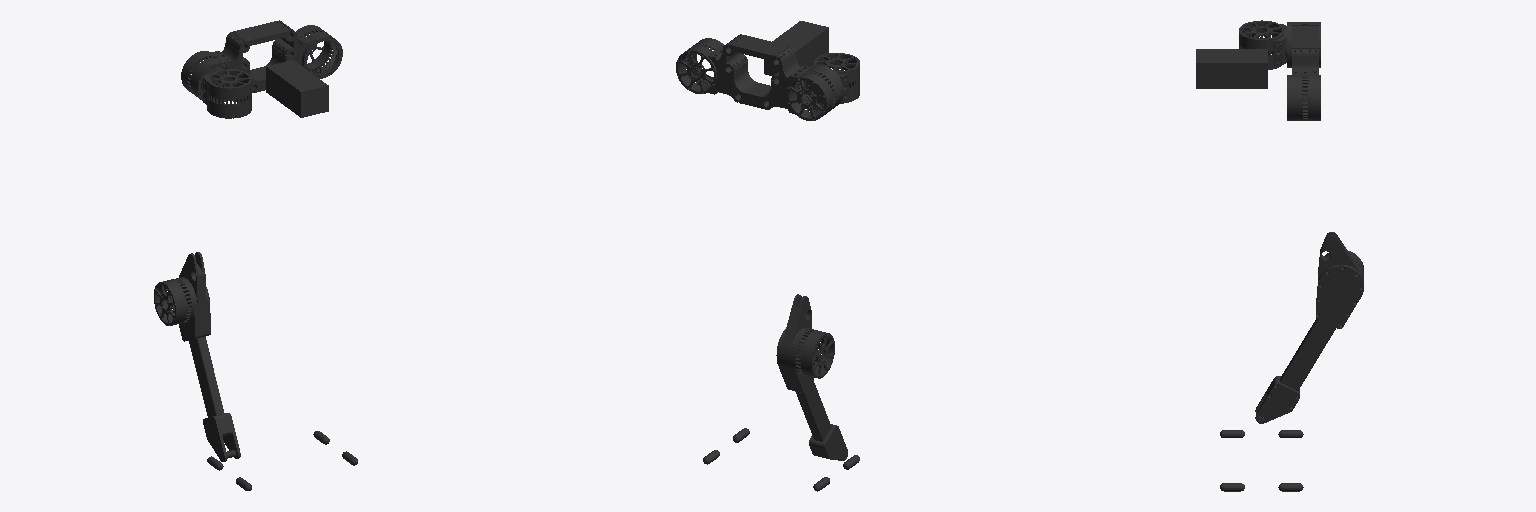
The robot description file, URDF, robot "biped":
<?xml version="1.0"?>
<!-- created with Phobos 0.7 -->
  <robot name="biped">

    <link name="l_ab_ad">
      <inertial>
        <origin xyz="8e-05 0.02446 -0.00146" rpy="0 0 0"/>
        <mass value="1.2"/>
        <inertia ixx="0.00196" ixy="0" ixz="0" iyy="0.00133" iyz="-2e-05" izz="0.0023"/>
      </inertial>
      <visual name="mesh.002">
        <origin xyz="8e-05 0.02446 -0.00146" rpy="0 0 0"/>
        <geometry>
          <mesh filename="../meshes/stl/Assembly Mockup v27.003.stl" scale="1.0 1.0 1.0"/>
        </geometry>
        <material name="Material"/>
      </visual>
      <collision name="mesh.002">
        <origin xyz="0 0.00015 -0.00044" rpy="0 0 0"/>
        <geometry>
          <cylinder radius="0.055" length="0.0759"/>
        </geometry>
      </collision>
    </link>

    <link name="l_foot">
      <inertial>
        <origin xyz="0 0.00325 -0.02828" rpy="0 0 0"/>
        <mass value="0.5"/>
        <inertia ixx="0.00163" ixy="0" ixz="0" iyy="0.001" iyz="-5e-05" izz="0.00151"/>
      </inertial>
      <visual name="Cylinder">
        <origin xyz="0 -0.07 -0.05247" rpy="1.5708 0 0"/>
        <geometry>
          <cylinder radius="0.01" length="0.04"/>
        </geometry>
        <material name="Material"/>
      </visual>
      <visual name="Cylinder.001">
        <origin xyz="0 0.07 -0.05247" rpy="1.5708 0 0"/>
        <geometry>
          <cylinder radius="0.01" length="0.04"/>
        </geometry>
        <material name="Material"/>
      </visual>
      <visual name="Sphere">
        <origin xyz="0 -0.09 -0.05247" rpy="1.5708 0 0"/>
        <geometry>
          <sphere radius="0.01"/>
        </geometry>
        <material name="Material"/>
      </visual>
      <visual name="Sphere.001">
        <origin xyz="0 -0.05 -0.05247" rpy="1.5708 0 0"/>
        <geometry>
          <sphere radius="0.01"/>
        </geometry>
        <material name="Material"/>
      </visual>
      <visual name="Sphere.002">
        <origin xyz="0 0.09 -0.05247" rpy="1.5708 0 0"/>
        <geometry>
          <sphere radius="0.01"/>
        </geometry>
        <material name="Material"/>
      </visual>
      <visual name="Sphere.003">
        <origin xyz="0 0.05 -0.05247" rpy="1.5708 0 0"/>
        <geometry>
          <sphere radius="0.01"/>
        </geometry>
        <material name="Material"/>
      </visual>
      <visual name="mesh.009">
        <origin xyz="0 0.00325 -0.02828" rpy="0 0 0"/>
        <geometry>
          <mesh filename="../meshes/stl/Assembly Mockup v27.012.stl" scale="1.0 1.0 1.0"/>
        </geometry>
        <material name="Material"/>
      </visual>
      <collision name="Sphere">
        <origin xyz="0 -0.09 -0.04" rpy="1.5708 0 0"/>
        <geometry>
          <sphere radius="0.025"/>
        </geometry>
      </collision>
      <collision name="Sphere.002">
        <origin xyz="0 0.09 -0.04" rpy="1.5708 0 0"/>
        <geometry>
          <sphere radius="0.025"/>
        </geometry>
      </collision>
    </link>

    <link name="l_lower">
      <inertial>
        <origin xyz="-0.0001 0.00125 -0.14482" rpy="0 0 0"/>
        <mass value="2.0"/>
        <inertia ixx="0.04215" ixy="-0.0001" ixz="-5e-05" iyy="0.03449" iyz="-0.01473" izz="0.00811"/>
      </inertial>
      <visual name="mesh.008">
        <origin xyz="-0.0001 0.00125 -0.14482" rpy="0 0 0"/>
        <geometry>
          <mesh filename="../meshes/stl/Assembly Mockup v27.011.stl" scale="1.0 1.0 1.0"/>
        </geometry>
        <material name="Material"/>
      </visual>
      <visual name="mesh.011">
        <origin xyz="0.05162 0.03693 -0.07685" rpy="0 0 0"/>
        <geometry>
          <mesh filename="../meshes/stl/Assembly Mockup v27.014.stl" scale="1.0 1.0 1.0"/>
        </geometry>
        <material name="Material"/>
      </visual>
      <collision name="mesh.011">
        <origin xyz="0.028 0.03693 -0.07688" rpy="1.5708 0 1.5708"/>
        <geometry>
          <cylinder radius="0.055" length="0.088"/>
        </geometry>
      </collision>
    </link>

    <link name="l_upper">
      <inertial>
        <origin xyz="0.00043 0.04822 -0.10773" rpy="0 0 0"/>
        <mass value="1.0"/>
        <inertia ixx="0.04548" ixy="-0.00012" ixz="5e-05" iyy="0.0388" iyz="0.01517" izz="0.00738"/>
      </inertial>
      <visual name="mesh.010">
        <origin xyz="0.00043 0.04822 -0.10773" rpy="0 0 0"/>
        <geometry>
          <mesh filename="../meshes/stl/Assembly Mockup v27.013.stl" scale="1.0 1.0 1.0"/>
        </geometry>
        <material name="Material"/>
      </visual>
    </link>

    <link name="l_yaw">
      <inertial>
        <origin xyz="0 0 0.03518" rpy="0 0 0"/>
        <mass value="2.4"/>
        <inertia ixx="0.00566" ixy="0" ixz="4e-05" iyy="0.01138" iyz="0" izz="0.00912"/>
      </inertial>
      <visual name="mesh.004">
        <origin xyz="0 0 0.03518" rpy="0 0 0"/>
        <geometry>
          <mesh filename="../meshes/stl/Assembly Mockup v27.005.stl" scale="1.0 1.0 1.0"/>
        </geometry>
        <material name="Material"/>
      </visual>
      <collision name="mesh.004">
        <origin xyz="0 0 0.00075" rpy="1.5708 0 1.5708"/>
        <geometry>
          <cylinder radius="0.0525" length="0.209"/>
        </geometry>
      </collision>
    </link>

    <link name="r_ab_ad">
      <inertial>
        <origin xyz="-8e-05 0.02445 -0.00143" rpy="0 0 0"/>
        <mass value="1.2"/>
        <inertia ixx="0.00196" ixy="0" ixz="0" iyy="0.00133" iyz="-2e-05" izz="0.00229"/>
      </inertial>
      <visual name="mesh.003">
        <origin xyz="-8e-05 0.02445 -0.00143" rpy="0 0 0"/>
        <geometry>
          <mesh filename="../meshes/stl/Assembly Mockup v27.004.stl" scale="1.0 1.0 1.0"/>
        </geometry>
        <material name="Material"/>
      </visual>
      <collision name="mesh.003">
        <origin xyz="0 0.00015 -0.00044" rpy="0 0 0"/>
        <geometry>
          <cylinder radius="0.055" length="0.0759"/>
        </geometry>
      </collision>
    </link>

    <link name="r_foot">
      <inertial>
        <origin xyz="0 0.00325 -0.02828" rpy="0 0 0"/>
        <mass value="0.5"/>
        <inertia ixx="0.00163" ixy="0" ixz="0" iyy="0.001" iyz="-5e-05" izz="0.00151"/>
      </inertial>
      <visual name="Cylinder.002">
        <origin xyz="0 0.07 -0.05247" rpy="1.5708 0 0"/>
        <geometry>
          <cylinder radius="0.01" length="0.04"/>
        </geometry>
        <material name="Material"/>
      </visual>
      <visual name="Cylinder.003">
        <origin xyz="0 -0.07 -0.05247" rpy="1.5708 0 0"/>
        <geometry>
          <cylinder radius="0.01" length="0.04"/>
        </geometry>
        <material name="Material"/>
      </visual>
      <visual name="Sphere.004">
        <origin xyz="0 0.05 -0.05247" rpy="1.5708 0 0"/>
        <geometry>
          <sphere radius="0.01"/>
        </geometry>
        <material name="Material"/>
      </visual>
      <visual name="Sphere.005">
        <origin xyz="0 0.09 -0.05247" rpy="1.5708 0 0"/>
        <geometry>
          <sphere radius="0.01"/>
        </geometry>
        <material name="Material"/>
      </visual>
      <visual name="Sphere.006">
        <origin xyz="0 -0.05 -0.05247" rpy="1.5708 0 0"/>
        <geometry>
          <sphere radius="0.01"/>
        </geometry>
        <material name="Material"/>
      </visual>
      <visual name="Sphere.007">
        <origin xyz="0 -0.09 -0.05247" rpy="1.5708 0 0"/>
        <geometry>
          <sphere radius="0.01"/>
        </geometry>
        <material name="Material"/>
      </visual>
      <visual name="mesh">
        <origin xyz="0 0.00325 -0.02828" rpy="0 0 0"/>
        <geometry>
          <mesh filename="../meshes/stl/Assembly Mockup v27.stl" scale="1.0 1.0 1.0"/>
        </geometry>
        <material name="Material"/>
      </visual>
      <collision name="Sphere.005">
        <origin xyz="0 0.09 -0.04" rpy="1.5708 0 0"/>
        <geometry>
          <sphere radius="0.025"/>
        </geometry>
      </collision>
      <collision name="Sphere.007">
        <origin xyz="0 -0.09 -0.04" rpy="1.5708 0 0"/>
        <geometry>
          <sphere radius="0.025"/>
        </geometry>
      </collision>
    </link>

    <link name="r_lower">
      <inertial>
        <origin xyz="-0.00018 0.00049 -0.14674" rpy="0 0 0"/>
        <mass value="2.0"/>
        <inertia ixx="0.04173" ixy="0.00012" ixz="6e-05" iyy="0.03413" iyz="-0.01457" izz="0.00804"/>
      </inertial>
      <visual name="mesh.007">
        <origin xyz="-0.00018 0.00049 -0.14674" rpy="0 0 0"/>
        <geometry>
          <mesh filename="../meshes/stl/Assembly Mockup v27.010.stl" scale="1.0 1.0 1.0"/>
        </geometry>
        <material name="Material"/>
      </visual>
      <visual name="mesh.012">
        <origin xyz="-0.05162 0.03692 -0.07686" rpy="0 0 0"/>
        <geometry>
          <mesh filename="../meshes/stl/Assembly Mockup v27.015.stl" scale="1.0 1.0 1.0"/>
        </geometry>
        <material name="Material"/>
      </visual>
      <collision name="mesh.012">
        <origin xyz="-0.028 0.03693 -0.07688" rpy="1.5708 0 1.5708"/>
        <geometry>
          <cylinder radius="0.055" length="0.088"/>
        </geometry>
      </collision>
    </link>

    <link name="r_upper">
      <inertial>
        <origin xyz="-0.00228 0.0512 -0.11337" rpy="0 0 0"/>
        <mass value="1.0"/>
        <inertia ixx="0.04446" ixy="0.00018" ixz="-7e-05" iyy="0.03796" iyz="0.0148" izz="0.00723"/>
      </inertial>
      <visual name="mesh.006">
        <origin xyz="-0.00228 0.0512 -0.11337" rpy="0 0 0"/>
        <geometry>
          <mesh filename="../meshes/stl/Assembly Mockup v27.009.stl" scale="1.0 1.0 1.0"/>
        </geometry>
        <material name="Material"/>
      </visual>
    </link>

    <link name="r_yaw">
      <inertial>
        <origin xyz="0 0 0.03517" rpy="0 0 0"/>
        <mass value="2.4"/>
        <inertia ixx="0.00565" ixy="0" ixz="-4e-05" iyy="0.01138" iyz="0" izz="0.00912"/>
      </inertial>
      <visual name="mesh.005">
        <origin xyz="0 0 0.03517" rpy="0 0 0"/>
        <geometry>
          <mesh filename="../meshes/stl/Assembly Mockup v27.006.stl" scale="1.0 1.0 1.0"/>
        </geometry>
        <material name="Material"/>
      </visual>
      <collision name="mesh.005">
        <origin xyz="0 0 0.00075" rpy="1.5708 0 1.5708"/>
        <geometry>
          <cylinder radius="0.0525" length="0.209"/>
        </geometry>
      </collision>
    </link>

    <link name="torso">
      <inertial>
        <origin xyz="0 -0.09385 0.03683" rpy="0 0 0"/>
        <mass value="4.4"/>
        <inertia ixx="0.00838" ixy="0" ixz="0" iyy="0.00298" iyz="0" izz="0.0088"/>
      </inertial>
      <visual name="mesh.001">
        <origin xyz="0 -0.09385 0.03683" rpy="0 0 0"/>
        <geometry>
          <mesh filename="../meshes/stl/Assembly Mockup v27.001.stl" scale="1.0 1.0 1.0"/>
        </geometry>
        <material name="Material"/>
      </visual>
      <visual name="mesh.013">
        <origin xyz="-1e-05 0.10381 0.00587" rpy="0 0 0"/>
        <geometry>
          <mesh filename="../meshes/stl/Assembly Mockup v27.016.stl" scale="1.0 1.0 1.0"/>
        </geometry>
        <material name="Material"/>
      </visual>
      <visual name="mesh.014">
        <origin xyz="0 -0.071 0.005" rpy="0 0 0"/>
        <geometry>
          <mesh filename="../meshes/stl/Assembly Mockup v27.017.stl" scale="1.0 1.0 1.0"/>
        </geometry>
        <material name="Material"/>
      </visual>
      <collision name="mesh.001">
        <origin xyz="0 -0.0275 0.0175" rpy="0 0 0"/>
        <geometry>
          <box size="0.16028 0.33 0.145"/>
        </geometry>
      </collision>
      <collision name="mesh.002">
        <origin xyz="0.15 0.10367 -0.00044" rpy="1.5708 0 0"/>
        <geometry>
          <cylinder radius="0.055" length="0.0759"/>
        </geometry>
      </collision>
      <collision name="mesh.003">
        <origin xyz="-0.15 0.10367 -0.00044" rpy="1.5708 0 0"/>
        <geometry>
          <cylinder radius="0.055" length="0.0759"/>
        </geometry>
      </collision>
    </link>

    <joint name="l_ab_ad" type="revolute">
      <origin xyz="0.15 0 0" rpy="0 0 0"/>
      <parent link="torso"/>
      <child link="l_ab_ad"/>
      <axis xyz="0 -1.0 0"/>
      <limit lower="-2" upper="2" effort="0" velocity="0"/>
    </joint>

    <joint name="l_foot" type="revolute">
      <origin xyz="0 -0.1529 -0.42302" rpy="0 0 0"/>
      <parent link="l_lower"/>
      <child link="l_foot"/>
      <axis xyz="1.0 0 0"/>
      <limit lower="-1.5708" upper="0.69813" effort="0" velocity="0"/>
    </joint>

    <joint name="l_lower" type="revolute">
      <origin xyz="0 0.1529 -0.42302" rpy="0 0 0"/>
      <parent link="l_upper"/>
      <child link="l_lower"/>
      <axis xyz="1.0 0 0"/>
      <limit lower="-2.0944" upper="0.34907" effort="0" velocity="0"/>
    </joint>

    <joint name="l_upper" type="revolute">
      <origin xyz="0 0 0" rpy="0 0 0"/>
      <parent link="l_yaw"/>
      <child link="l_upper"/>
      <axis xyz="1.0 0 0"/>
      <limit lower="-1.91986" upper="1.22173" effort="0" velocity="0"/>
    </joint>

    <joint name="l_yaw" type="revolute">
      <origin xyz="0 0 -0.1295" rpy="0 0 0"/>
      <parent link="l_ab_ad"/>
      <child link="l_yaw"/>
      <axis xyz="0 0 1.0"/>
      <limit lower="-2" upper="2" effort="0" velocity="0"/>
    </joint>

    <joint name="r_ab_ad" type="revolute">
      <origin xyz="-0.15 0 0" rpy="0 0 0"/>
      <parent link="torso"/>
      <child link="r_ab_ad"/>
      <axis xyz="0 -1.0 0"/>
      <limit lower="-2" upper="2" effort="0" velocity="0"/>
    </joint>

    <joint name="r_foot" type="revolute">
      <origin xyz="0 -0.1529 -0.42302" rpy="0 0 0"/>
      <parent link="r_lower"/>
      <child link="r_foot"/>
      <axis xyz="1.0 0 0"/>
      <limit lower="-1.5708" upper="0.69813" effort="0" velocity="0"/>
    </joint>

    <joint name="r_lower" type="revolute">
      <origin xyz="0 0.1529 -0.42302" rpy="0 0 0"/>
      <parent link="r_upper"/>
      <child link="r_lower"/>
      <axis xyz="1.0 0 0"/>
      <limit lower="-2.0944" upper="0.34907" effort="0" velocity="0"/>
    </joint>

    <joint name="r_upper" type="revolute">
      <origin xyz="0 0 0" rpy="0 0 0"/>
      <parent link="r_yaw"/>
      <child link="r_upper"/>
      <axis xyz="1.0 0 0"/>
      <limit lower="-1.91986" upper="1.22173" effort="0" velocity="0"/>
    </joint>

    <joint name="r_yaw" type="revolute">
      <origin xyz="0 0 -0.1295" rpy="0 0 0"/>
      <parent link="r_ab_ad"/>
      <child link="r_yaw"/>
      <axis xyz="0 0 1.0"/>
      <limit lower="-2" upper="2" effort="0" velocity="0"/>
    </joint>

    <material name="Material">
      <color rgba="0.25 0.25 0.25 1.0"/>
    </material>

  </robot>

--- Facts derived from the render (not from the file) ---
The picture shows the robot from 3 angles, left to right: view 1: azimuth 30°, elevation 25°; view 2: azimuth 150°, elevation 25°; view 3: azimuth 270°, elevation 25°; orthographic projection.
Model biped with 11 links and 10 joints (10 revolute), rooted at torso, posed all joints at 0.
Visible links, largest first — view 1: torso, r_lower, r_ab_ad; view 2: torso, r_lower, r_ab_ad; view 3: r_lower, torso, r_ab_ad.
Link boxes in pixels (x1,y1,x2,y2): torso: (181, 20, 342, 117); r_lower: (154, 252, 240, 461); r_ab_ad: (201, 67, 251, 118); torso: (676, 21, 843, 120); r_lower: (776, 294, 847, 460); r_ab_ad: (807, 53, 859, 103); r_lower: (1255, 232, 1363, 423); torso: (1196, 22, 1320, 120); r_ab_ad: (1239, 20, 1286, 69).
Size in the robot's own frame: 0.4285 by 0.4023 by 1.13 metres.
Meshes: 15 distinct files referenced, 5 mesh visuals loaded (5 binary STL); not drawn: 10 (reference not matched to a file when rendering).